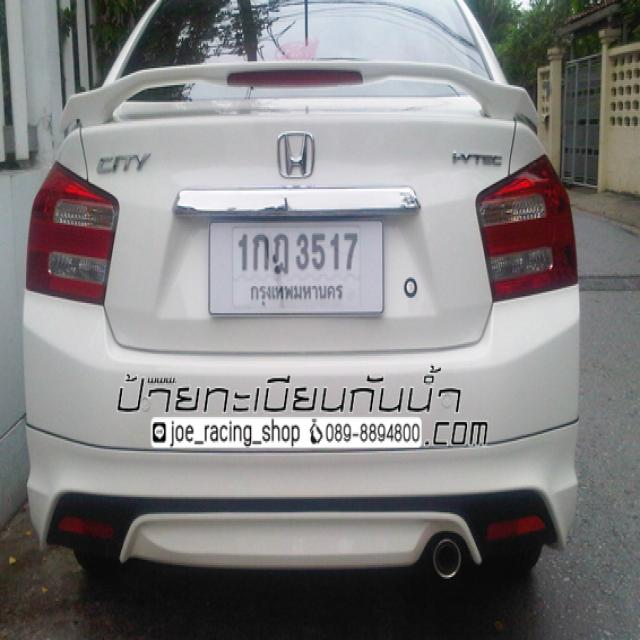license_plate: (206, 213, 386, 314)
